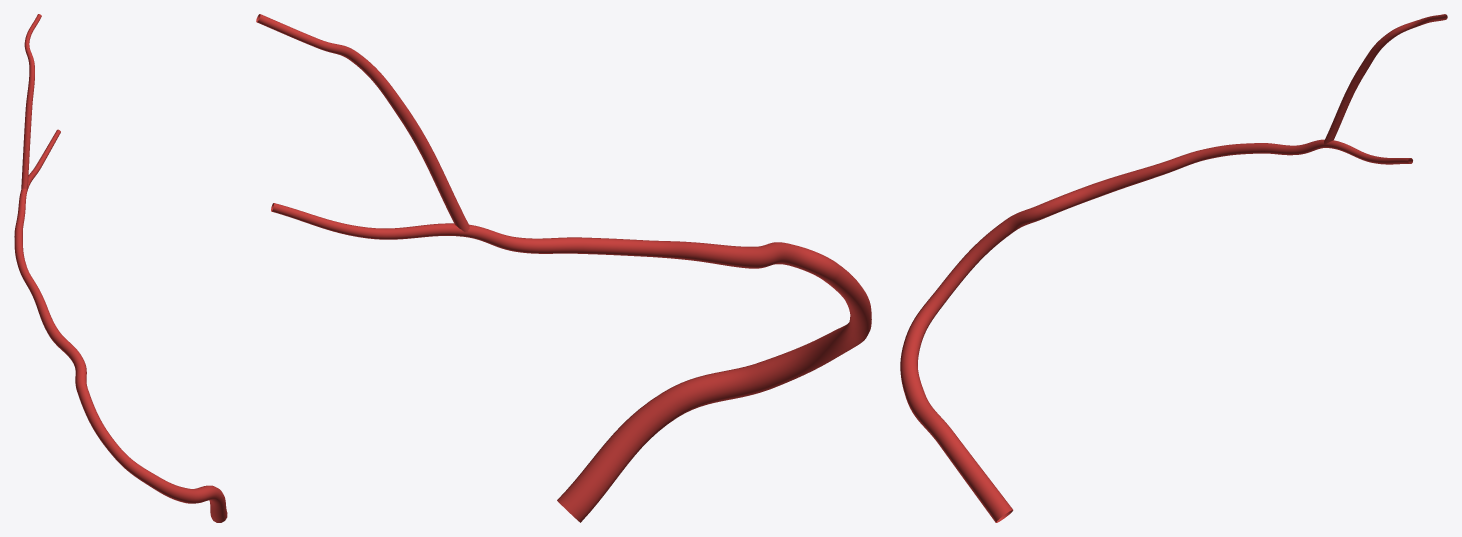
3 renders of one model, left to right at view 1: azimuth 30°, elevation 25°; view 2: azimuth 150°, elevation 25°; view 3: azimuth 270°, elevation 25°, orthographic. The views are drawn at different scales.
Visible parts, largest first — view 1: 右侧大脑中动脉颞支; view 2: 右侧大脑中动脉颞支; view 3: 右侧大脑中动脉颞支.
Boxes of the visible parts, x1=… form: 右侧大脑中动脉颞支: x1=14, y1=14, x2=227, y2=522; 右侧大脑中动脉颞支: x1=256, y1=14, x2=871, y2=522; 右侧大脑中动脉颞支: x1=900, y1=14, x2=1447, y2=522.
Bounding box in the file's own units: 0.0268 × 0.067 × 0.0661.
